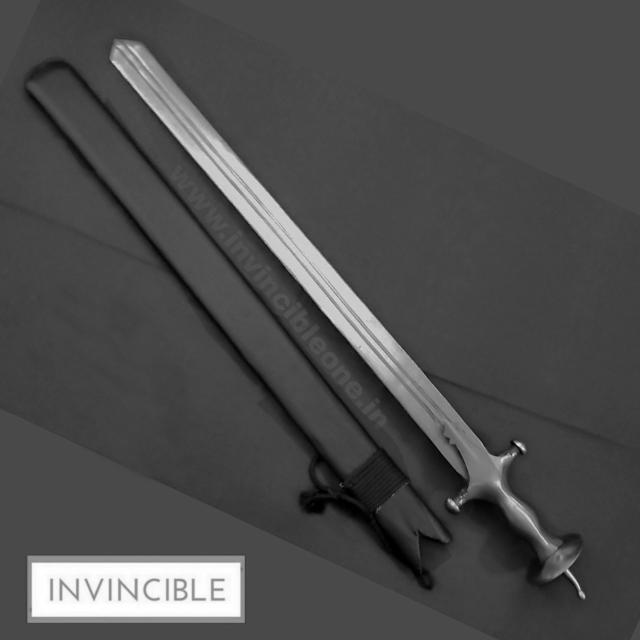Knife: (92, 43, 584, 599)
